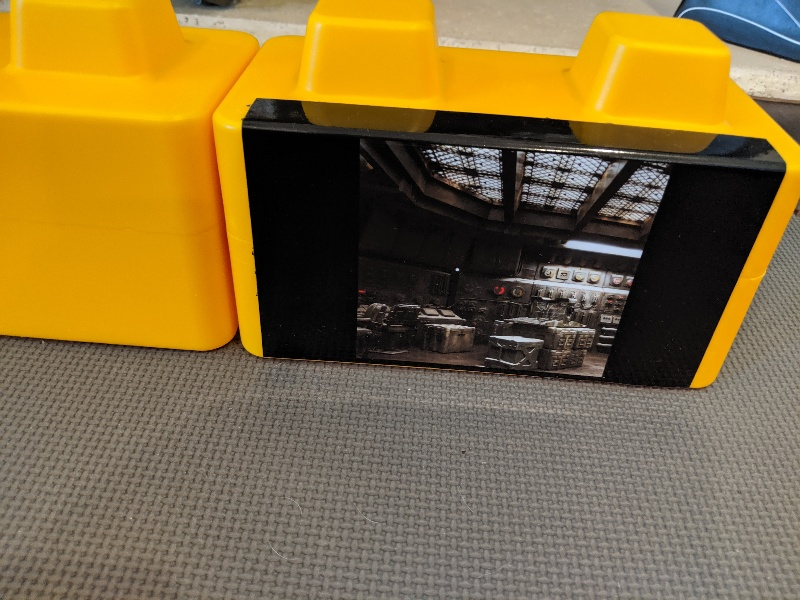Skystone: (233, 91, 792, 393)
